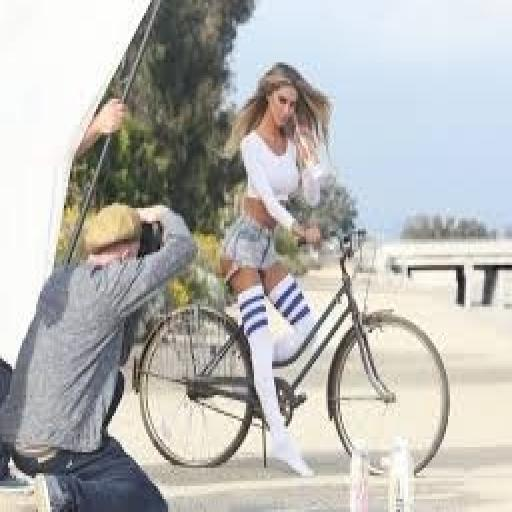cycling: (216, 60, 336, 481)
